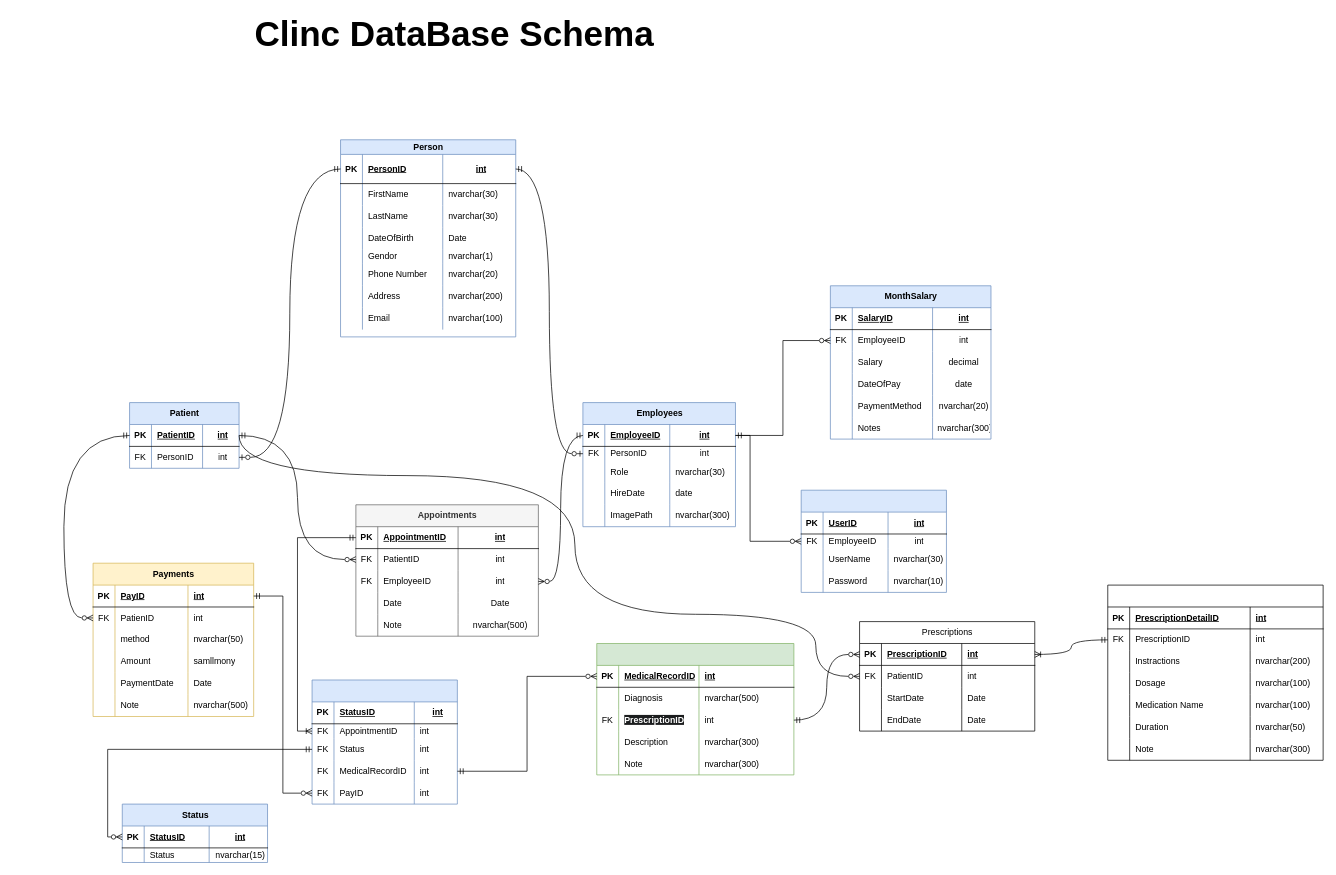
This 1336x875 diagram has some shape labels left out. The box of each missing label's shape, as (x1, y1, x2, y2) in pixels:
AppointmentsStatus: (311, 679, 457, 804)
LoginUsers: (800, 489, 946, 592)
Medical Records: (596, 643, 794, 775)
PrescriptionsDetails: (1107, 584, 1323, 760)
